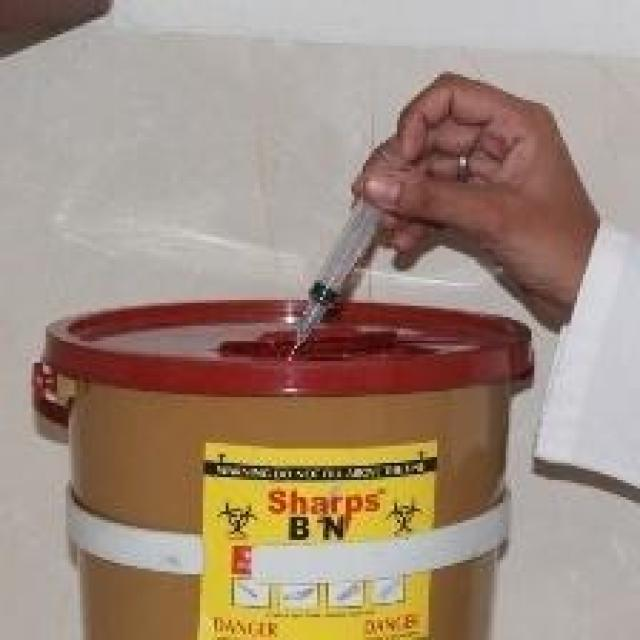syringe: (291, 151, 405, 363)
